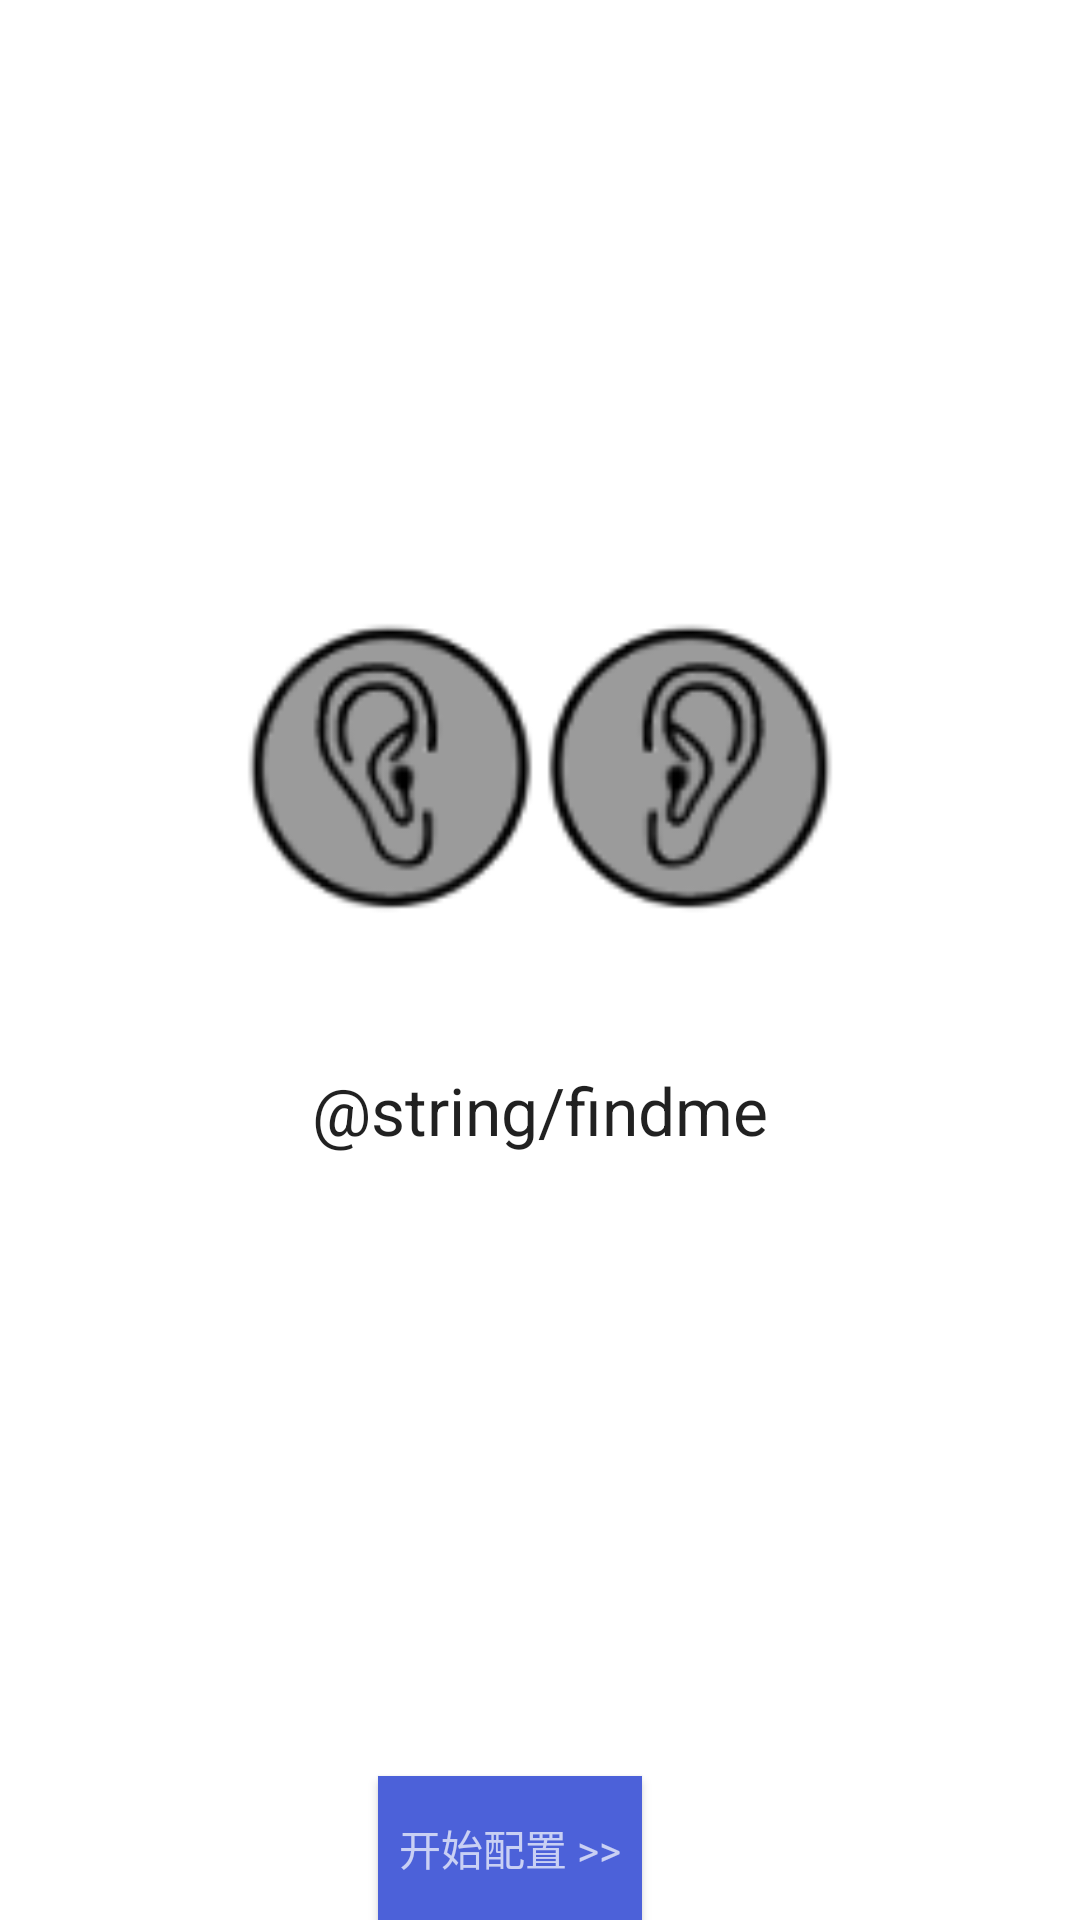

Where icons sit on this 1080x1920 app screen, as (x1, y1, x2, y2):
ear: (249, 625, 532, 909), (548, 625, 831, 909)
